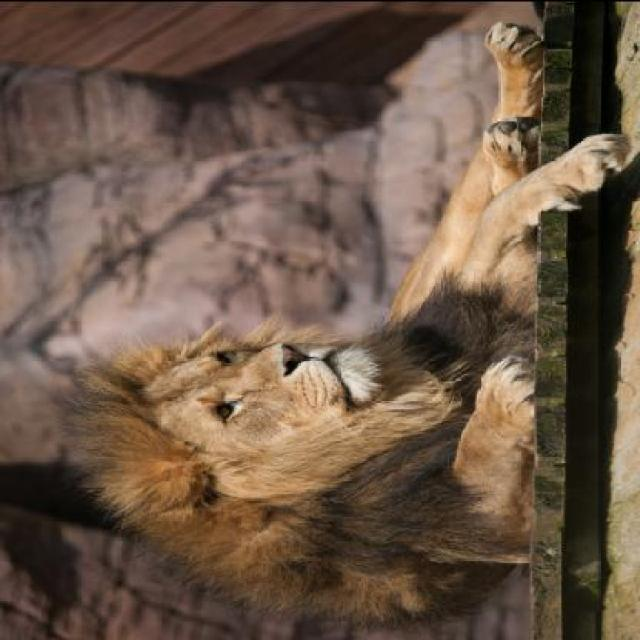Lion: (54, 15, 631, 634)
